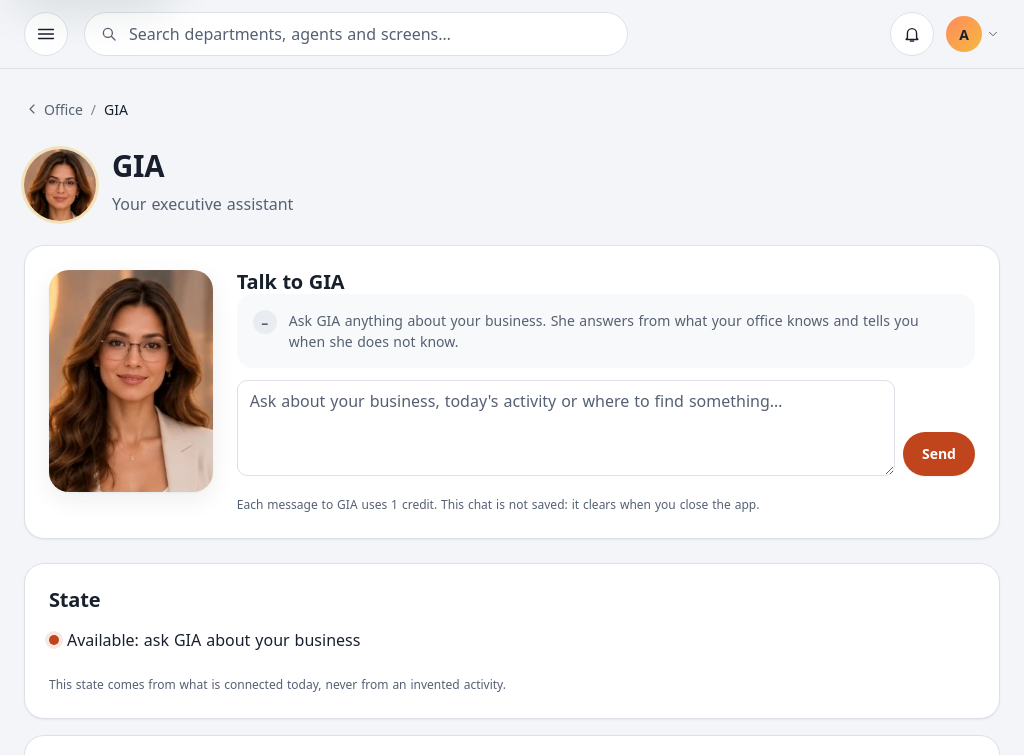
Test: GIA's follow-up proposal (C5) › asks for the time, schedules only when the person confirms, and says so after
Replace the text in the text box named "Your message to GIA" with "Recuérdame llamar a Juan mañana". click: (566, 428)
box: [237, 380, 895, 476]
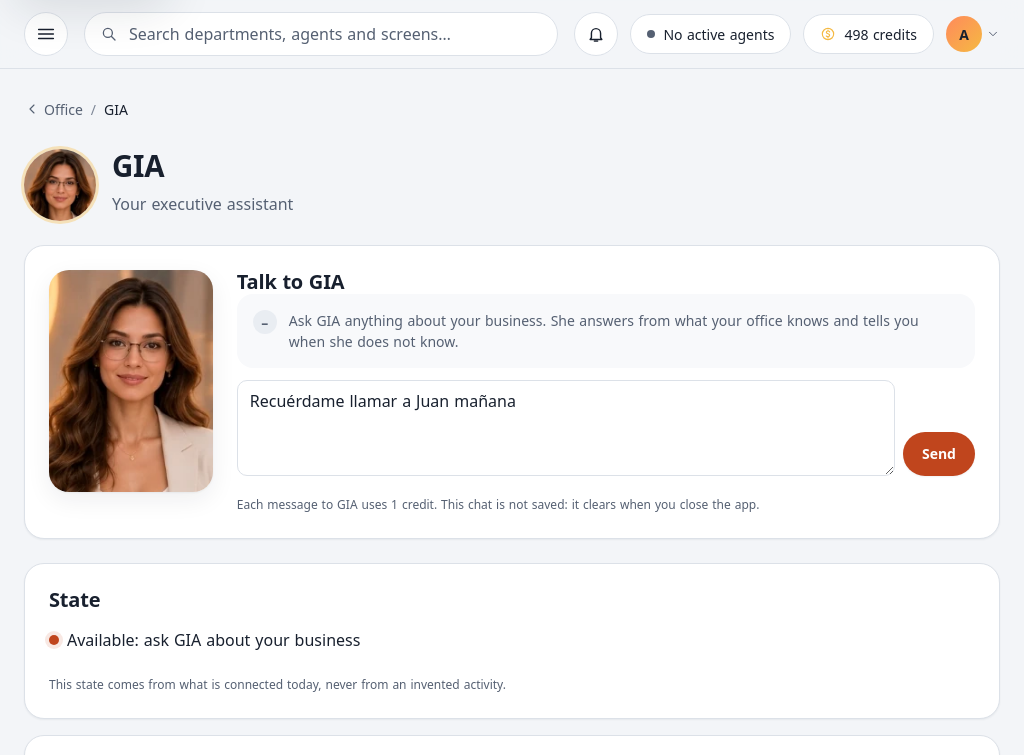
Click the button "Send". click: (939, 454)
box: [903, 432, 975, 476]
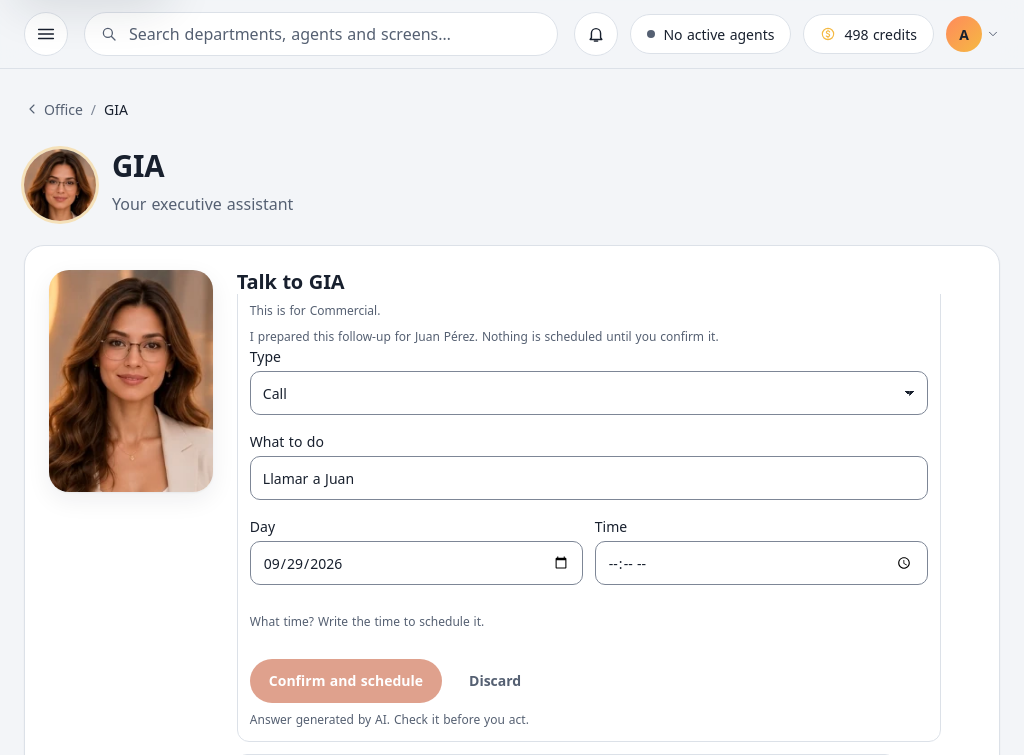
Expected: the text "I prepared this follow-up for Juan Pérez. Nothing is scheduled until you confirm it." is shown, [250, 328, 719, 345]
Expected: the time field labelled "Time" is empty
Type "10:00" into the time field labelled "Time". click: (761, 563)
box: [595, 541, 928, 585]
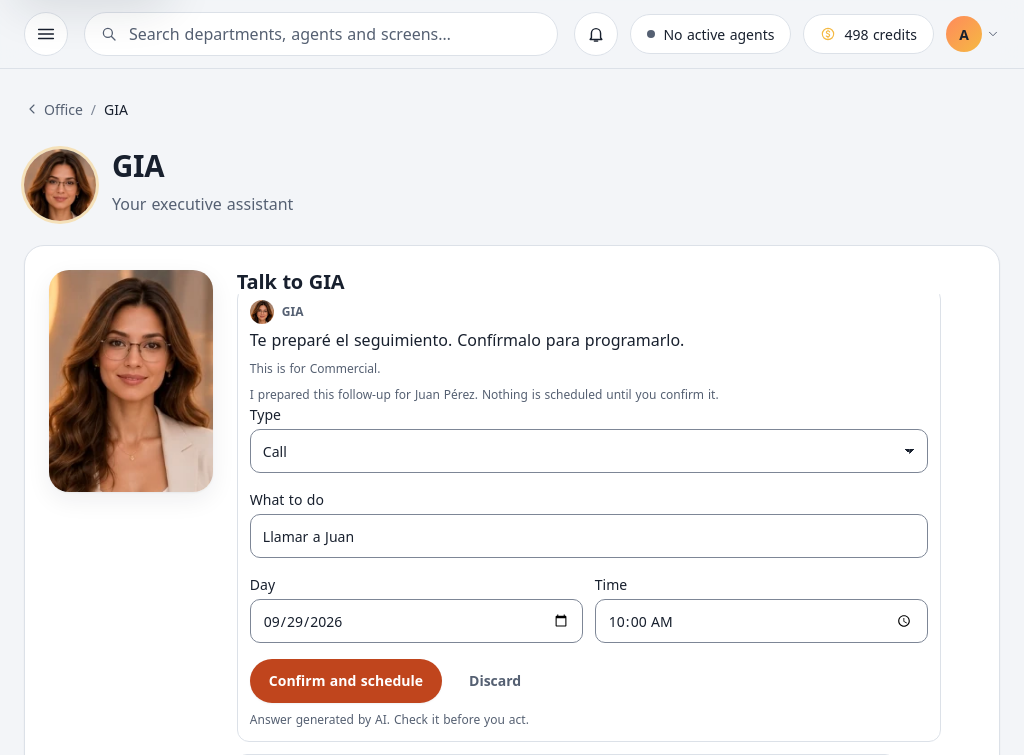
Click the button "Confirm and schedule". click: (346, 681)
box: [250, 659, 442, 703]
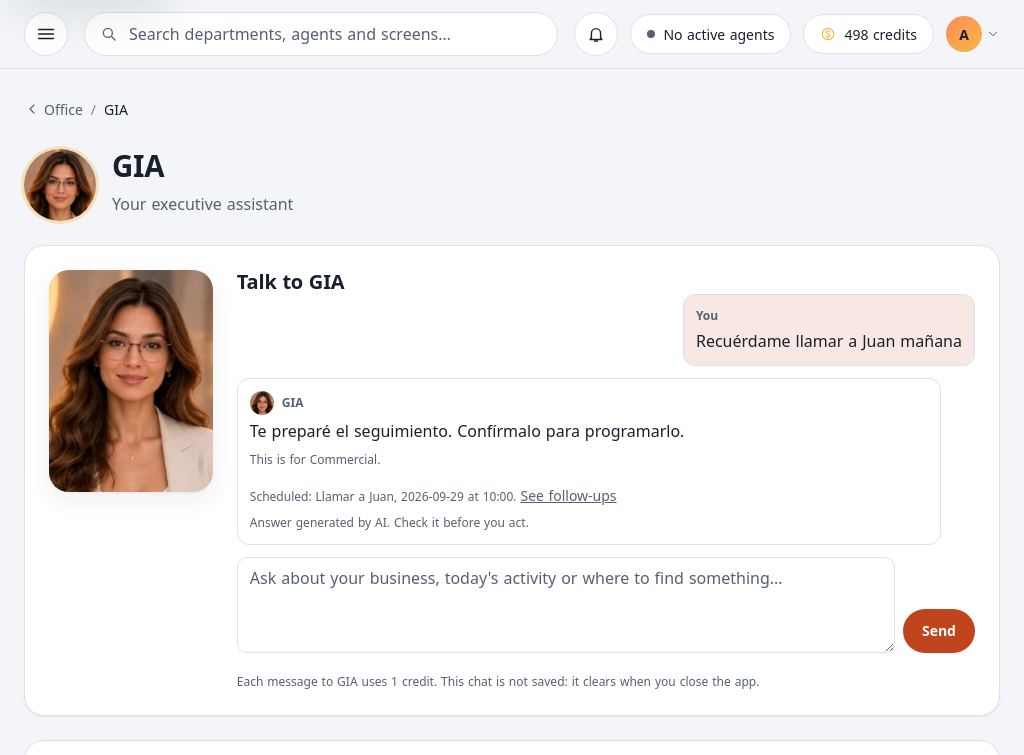
Expected: the text "Scheduled: Llamar a Juan, 2026-09-29 at 10:00. See follow-ups" is shown, [250, 486, 617, 505]
